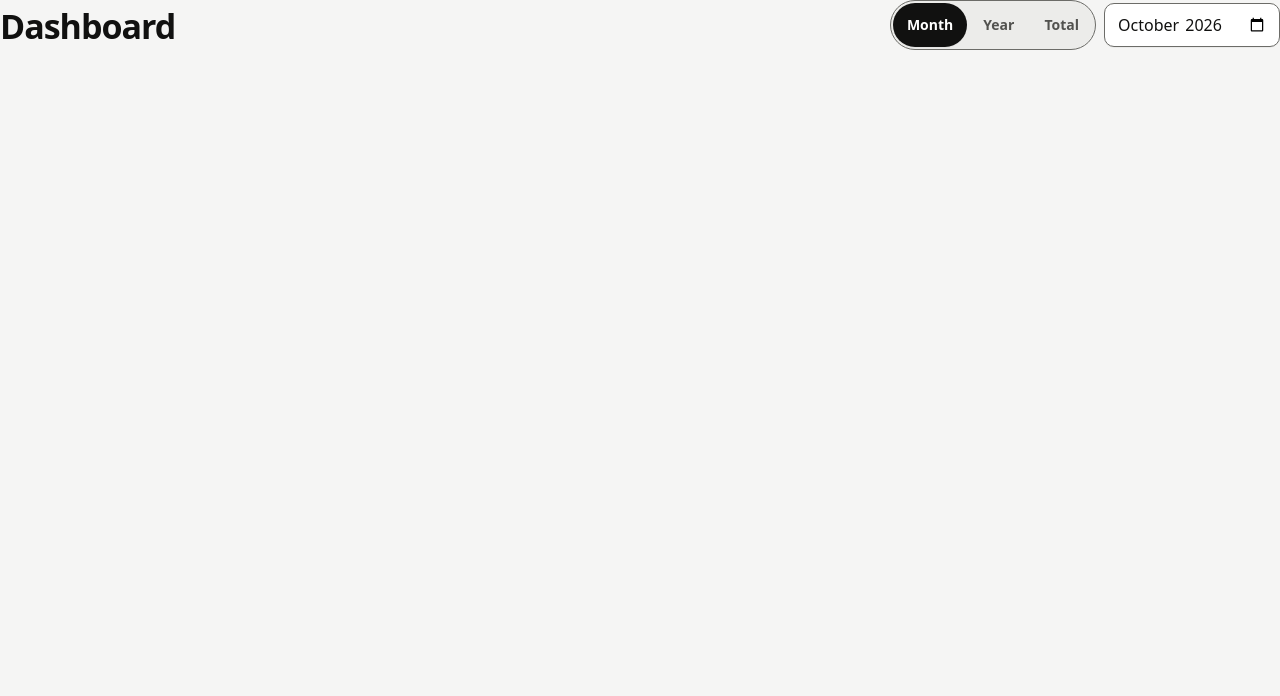
Test: AdminDashboardPage (F12, R28, SC-26; dashboard design pass) › KPIs for a month: revenue, expenses, net, occupancy and collection rate, with the R28 links
Step 1. Replace the text in the field named "Month" with "2026-09" → (1192, 25), box x1=1104 y1=3 x2=1279 y2=47
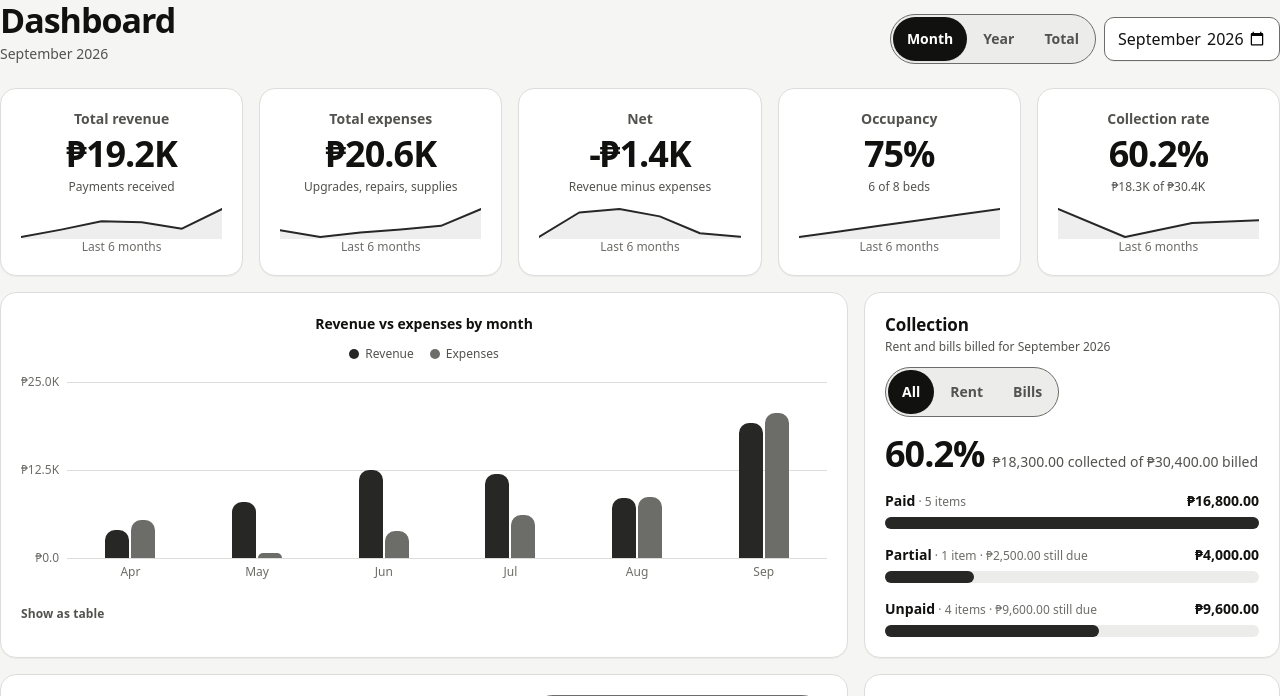
Check: the text "60.2%" below "Collection rate" is shown, box x1=1109 y1=129 x2=1208 y2=178
